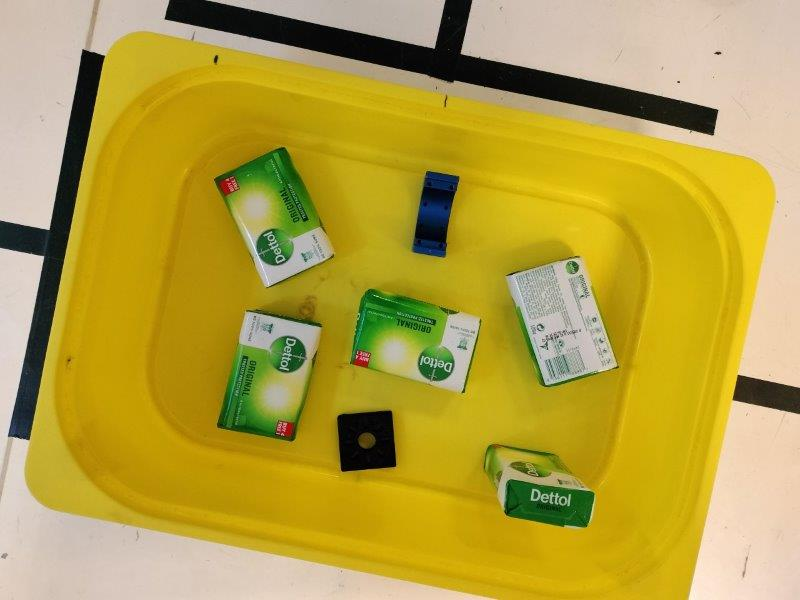Dettol: (214, 147, 335, 289), (504, 255, 619, 388), (215, 311, 322, 442), (349, 289, 483, 393), (484, 445, 596, 528)
